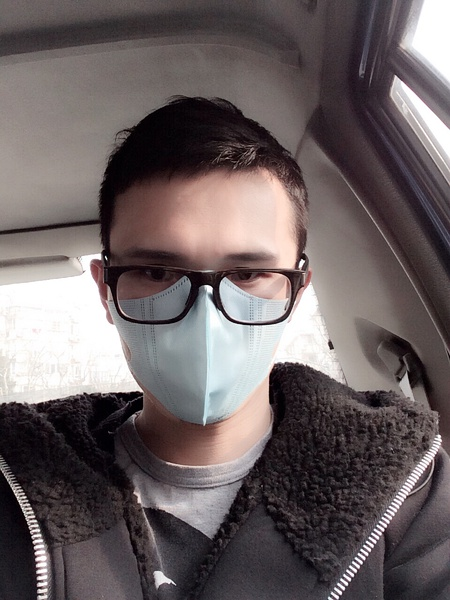face_mask: (112, 158, 290, 424)
